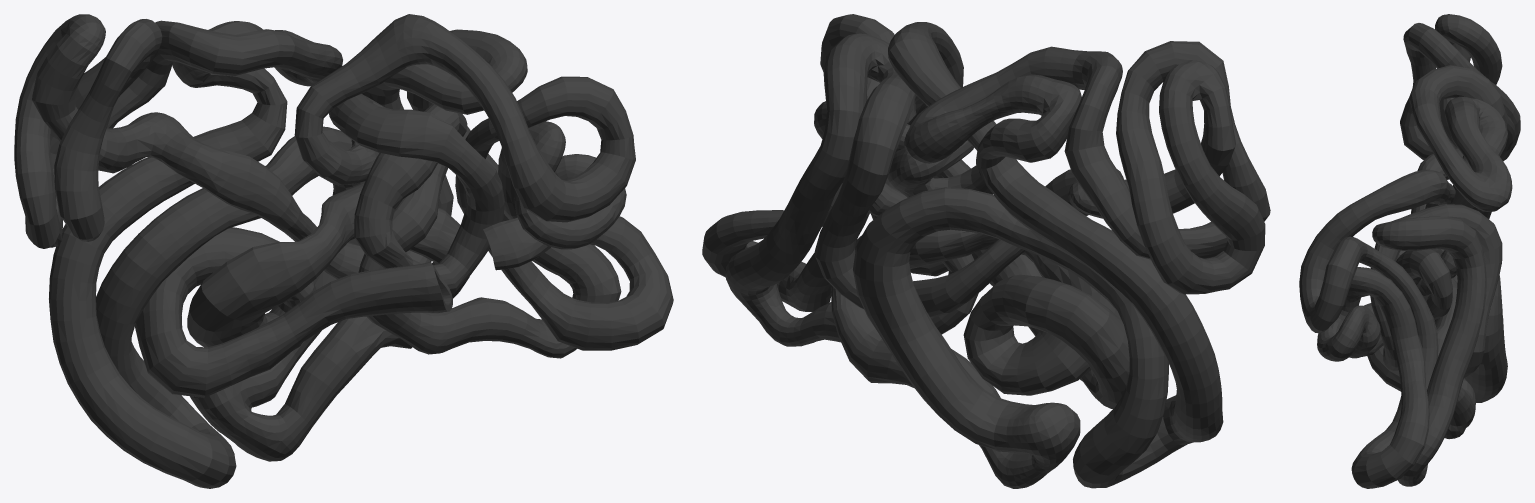
The model's file is jejunum_LP.glb.
The picture shows the model from 3 angles, left to right: view 1: azimuth 30°, elevation 25°; view 2: azimuth 150°, elevation 25°; view 3: azimuth 270°, elevation 25°; orthographic projection. The views are drawn at different scales.
Parts seen in each view (by area): view 1: jejunum_LP; view 2: jejunum_LP; view 3: jejunum_LP.
Boxes of the visible parts, x1,y1,x2,y2 form: jejunum_LP: (14,14,673,488); jejunum_LP: (702,14,1270,488); jejunum_LP: (1299,14,1520,488).
Size of the model in its own units: 4.37 by 3.33 by 1.88.
Materials: 1 (1 with a texture image).
